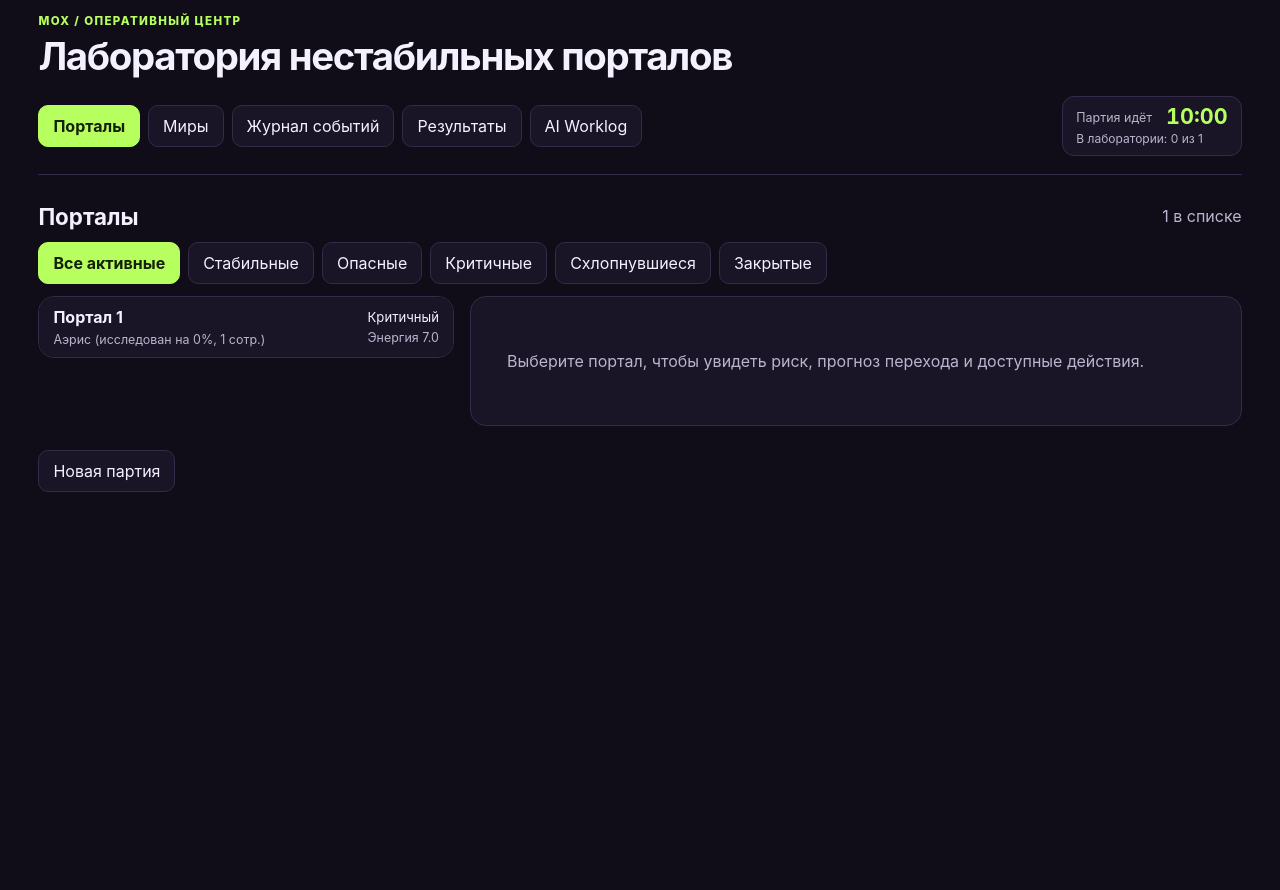
Test: App › после аварийного возврата оставляет выбранный схлопнувшийся портал видимым
Click the button "Критичные". click: (489, 263)
box: [430,242,547,284]
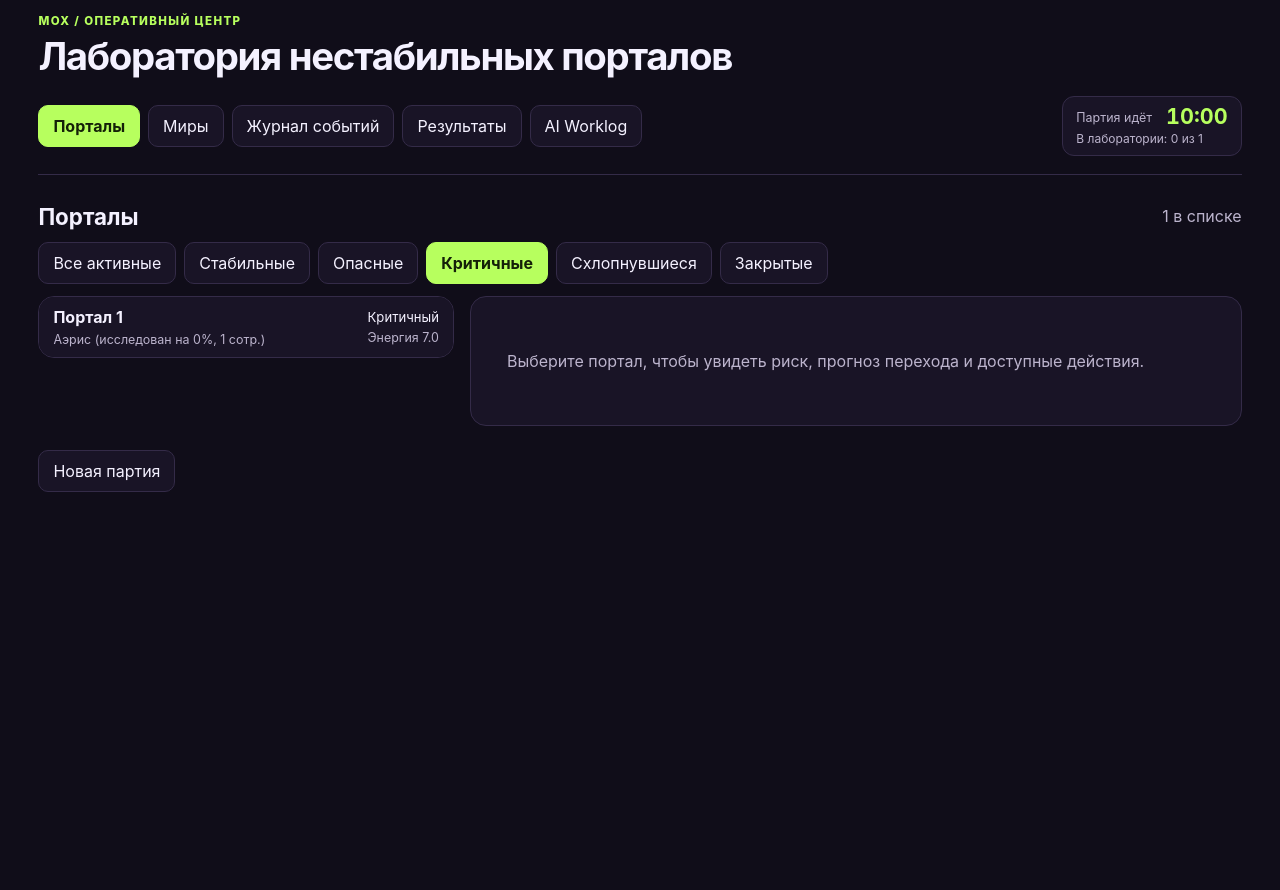
Click the button "Портал 1". click: (88, 317)
box: [39,297,453,357]
(page scrolled)
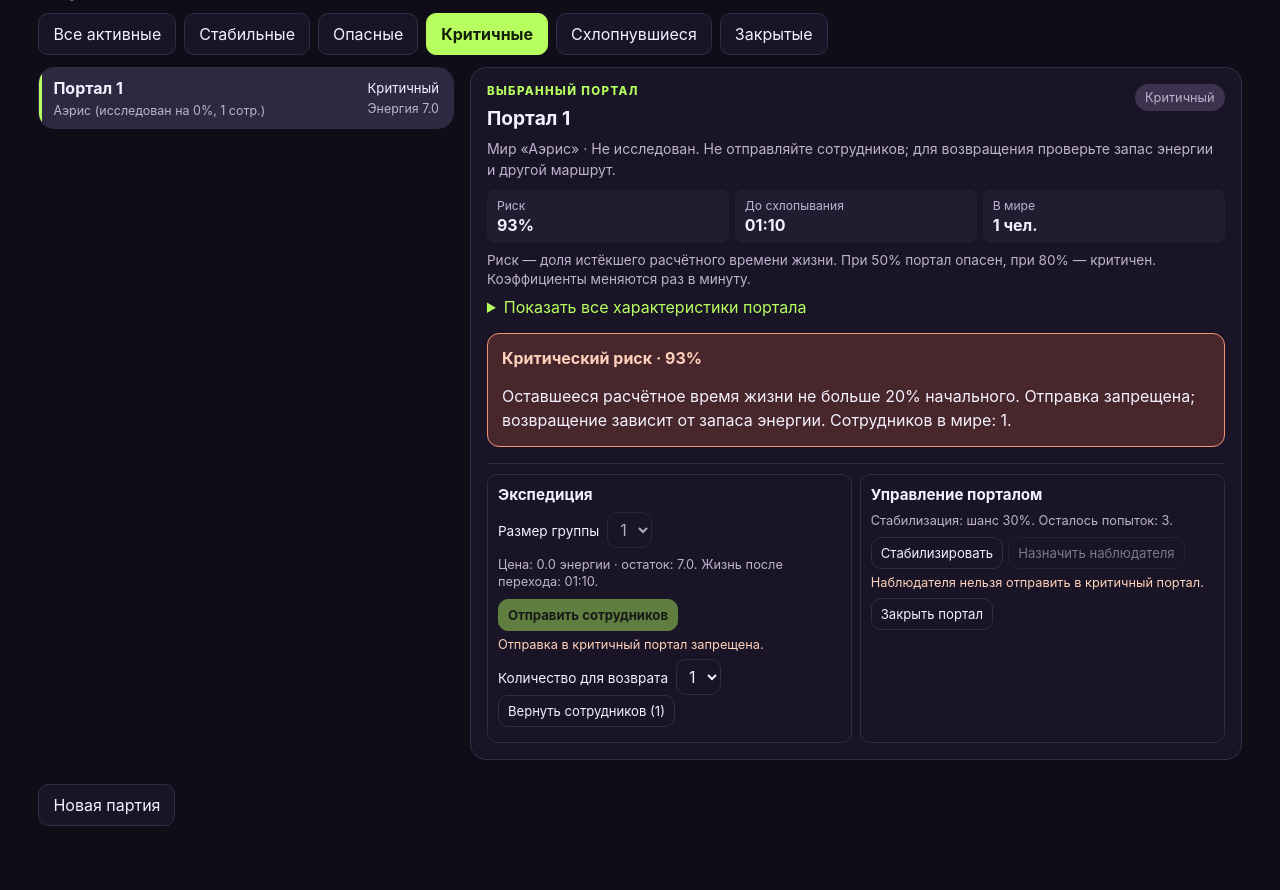
Click the button "Вернуть сотрудников (1)". click: (586, 711)
box: [498,695,675,727]
(page scrolled)
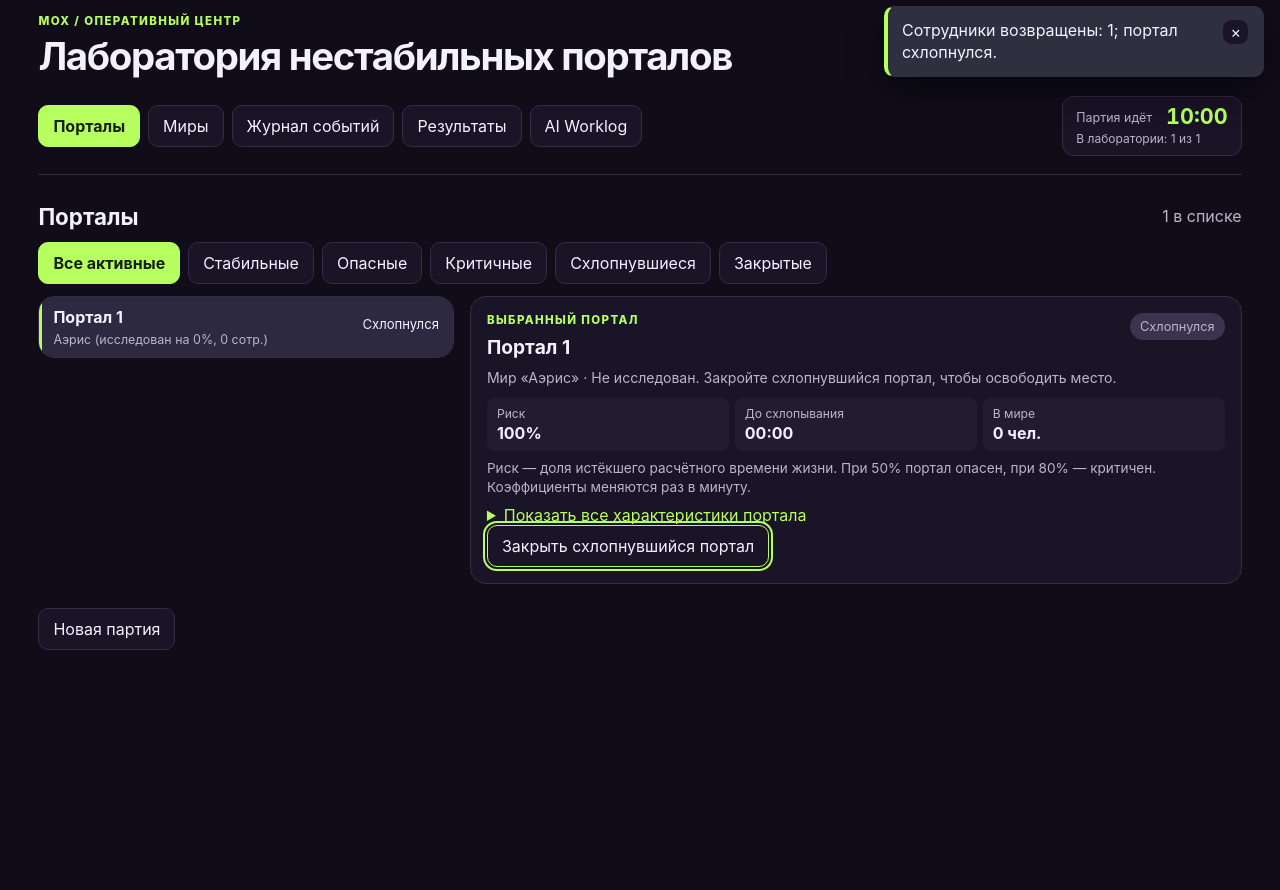
Result: the button "Портал 1 Аэрис (исследован на 0%, 0 сотр.) Схлопнулся" is shown at [39,297,453,357]
Result: the button "Закрыть схлопнувшийся портал" is enabled at [487,525,769,567]
